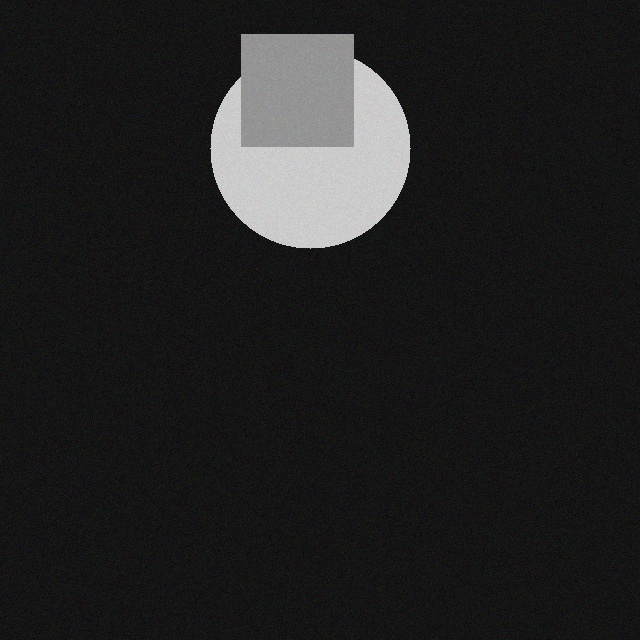circle: (208, 33, 408, 233), (275, 62, 363, 150)
square: (239, 19, 351, 131)
